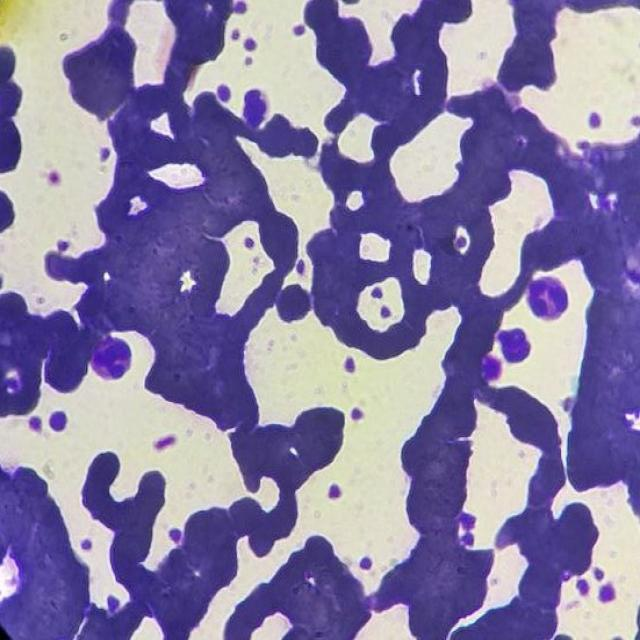Neutrofilo: (86, 333, 134, 382), (526, 272, 569, 321), (239, 88, 274, 138), (499, 328, 538, 363), (496, 328, 534, 363)
